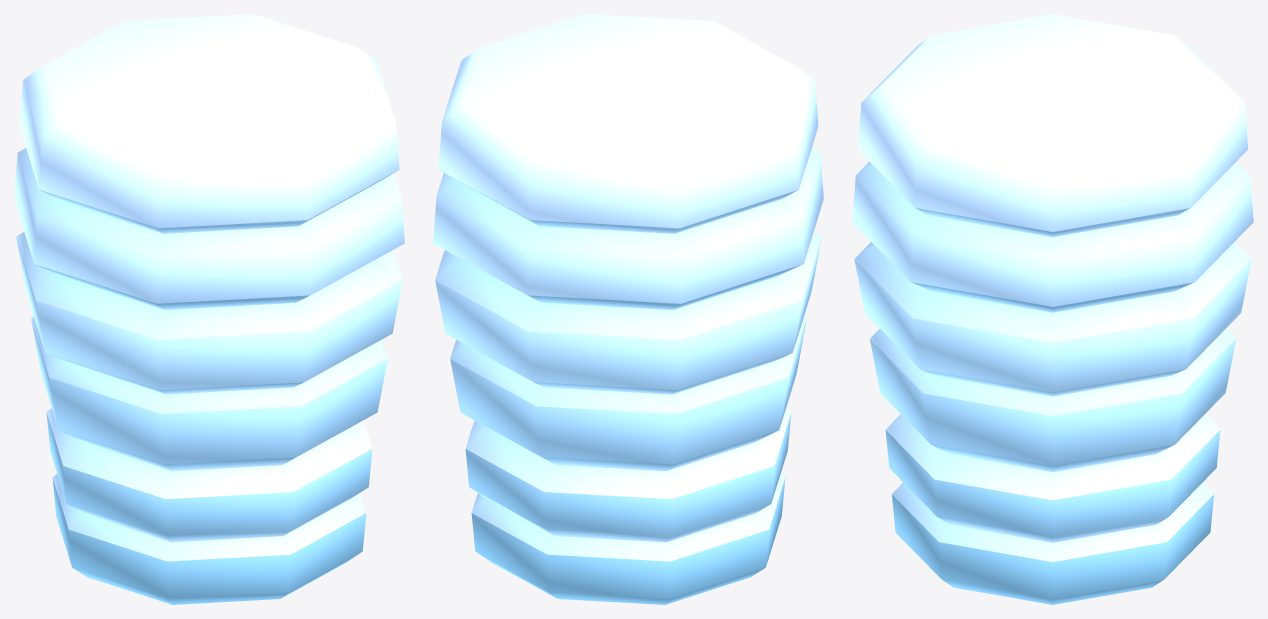
Rendered from steel_grip_032.glb.
3 renders of one model, left to right at view 1: azimuth 30°, elevation 25°; view 2: azimuth 150°, elevation 25°; view 3: azimuth 270°, elevation 25°, orthographic.
Visible parts, largest first — view 1: steel_grip_032; view 2: steel_grip_032; view 3: steel_grip_032.
Boxes of the visible parts, x1,y1,x2,y2 form: steel_grip_032: [14, 14, 404, 604]; steel_grip_032: [433, 14, 823, 604]; steel_grip_032: [852, 14, 1253, 604].
Bounding box in the file's own units: 2.37 × 3 × 2.37.
Materials: 1 (1 with a texture image).
